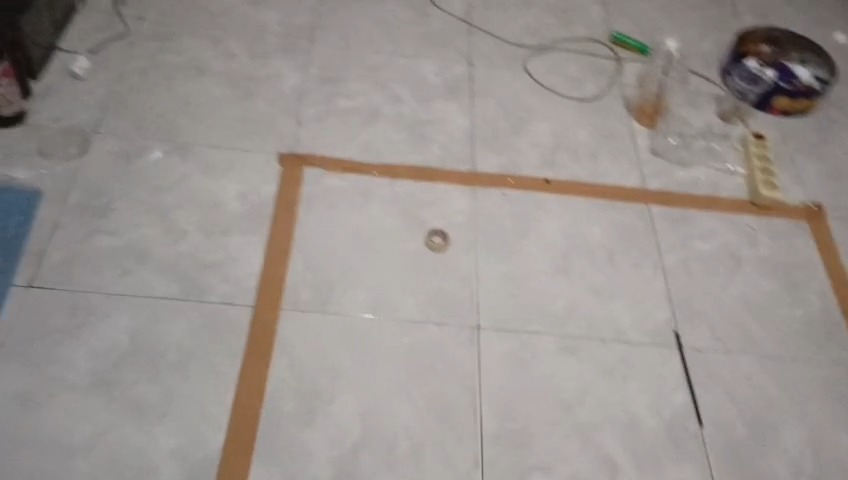floor marking: (217, 153, 847, 479)
